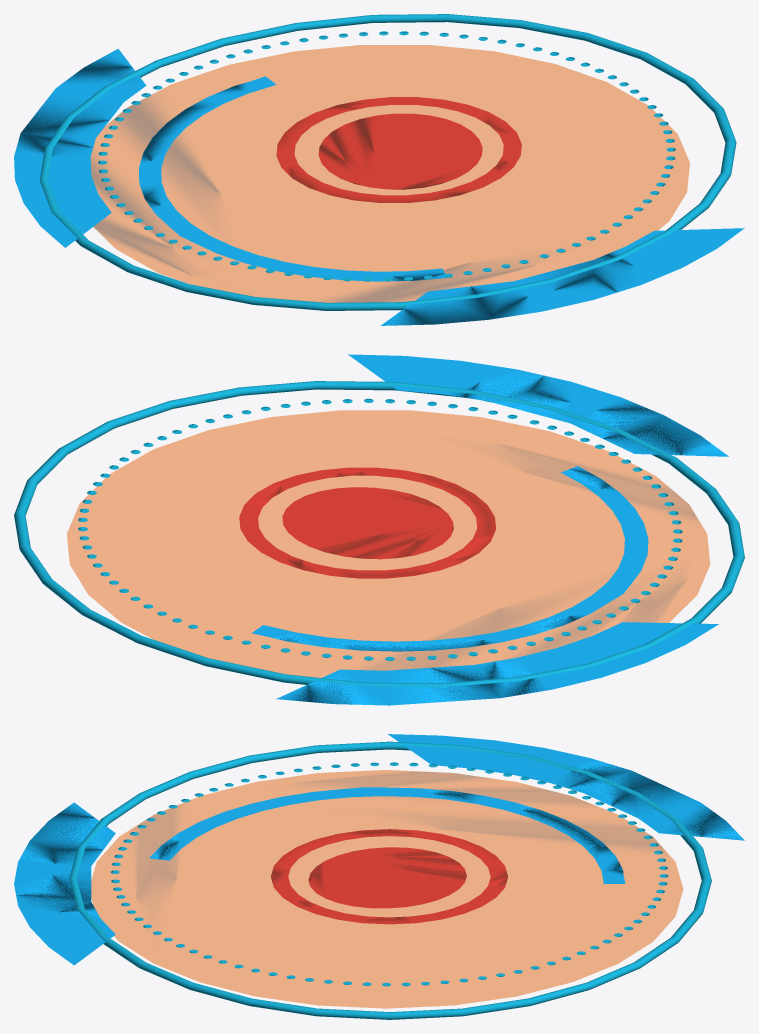
The model's file is fifth.obj.
3 renders of one model, top to bottom at view 1: azimuth 30°, elevation 25°; view 2: azimuth 150°, elevation 25°; view 3: azimuth 270°, elevation 25°, orthographic. The views are drawn at different scales.
Visible parts, largest first — view 1: Circle165, Circle160, Line008, Line009, Circle164, Line010, Donut001; view 2: Circle165, Line008, Circle160, Line009, Circle164, Line010, Donut001; view 3: Circle165, Circle160, Line008, Line009, Circle164, Line010, Donut001.
Part boxes in pixels (x1,y1,x2,y2): Circle165: [90, 45, 689, 302]; Circle160: [39, 14, 736, 310]; Line008: [14, 48, 146, 247]; Line009: [380, 228, 744, 325]; Circle164: [318, 113, 482, 189]; Line010: [139, 76, 446, 281]; Donut001: [276, 97, 521, 202]; Circle165: [67, 410, 710, 677]; Line008: [276, 622, 718, 705]; Circle160: [14, 381, 744, 687]; Line009: [348, 354, 728, 456]; Circle164: [282, 487, 453, 559]; Line010: [252, 466, 648, 651]; Donut001: [239, 467, 495, 578]; Circle165: [91, 770, 683, 1008]; Circle160: [69, 741, 711, 1019]; Line008: [388, 734, 744, 840]; Line009: [14, 802, 115, 965]; Circle164: [308, 847, 466, 908]; Line010: [149, 787, 625, 883]; Donut001: [270, 829, 507, 924].
Bounding box in the file's own units: 1016 × 47.95 × 1057.
